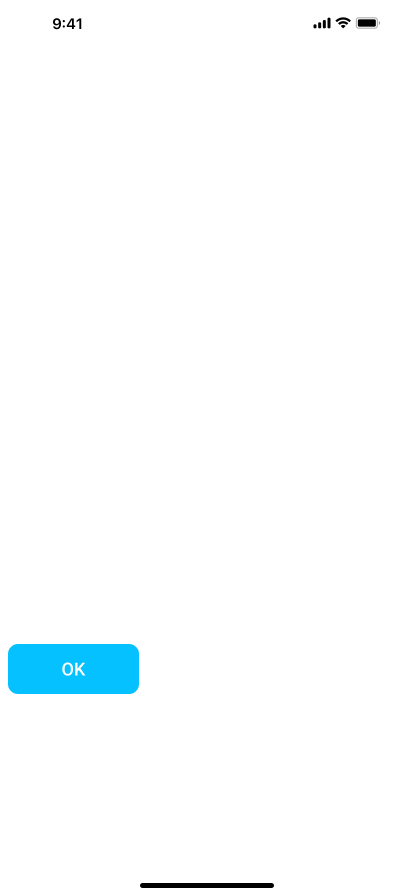Buttons: (8, 644, 139, 694)
Home Indicator: (0, 862, 414, 896)
Status Bar: (0, 0, 414, 44)
